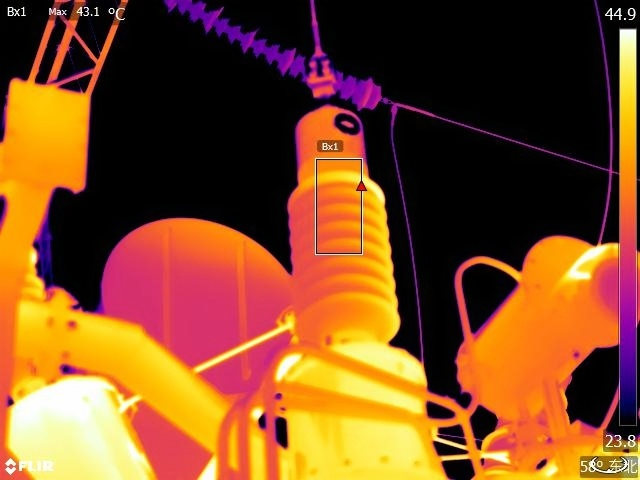clamp: (377, 93, 407, 126)
current transformer: (86, 191, 298, 480)
insulator: (152, 1, 391, 109)
tube: (279, 99, 401, 353)
